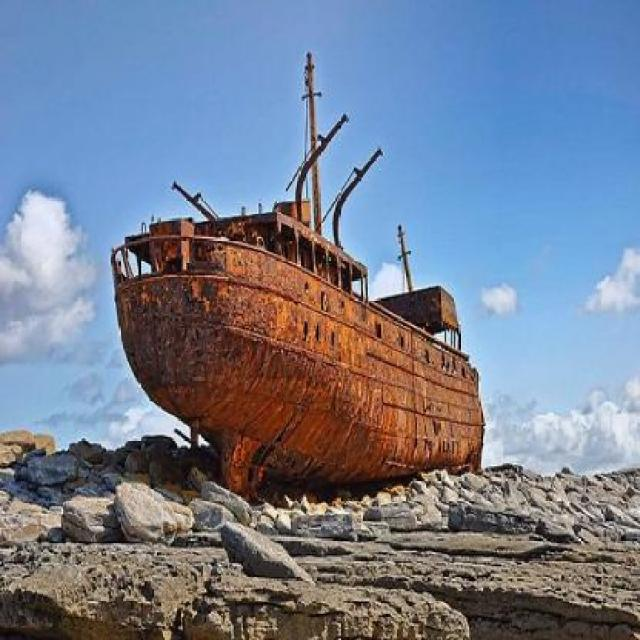corrosion: (99, 177, 487, 485)
